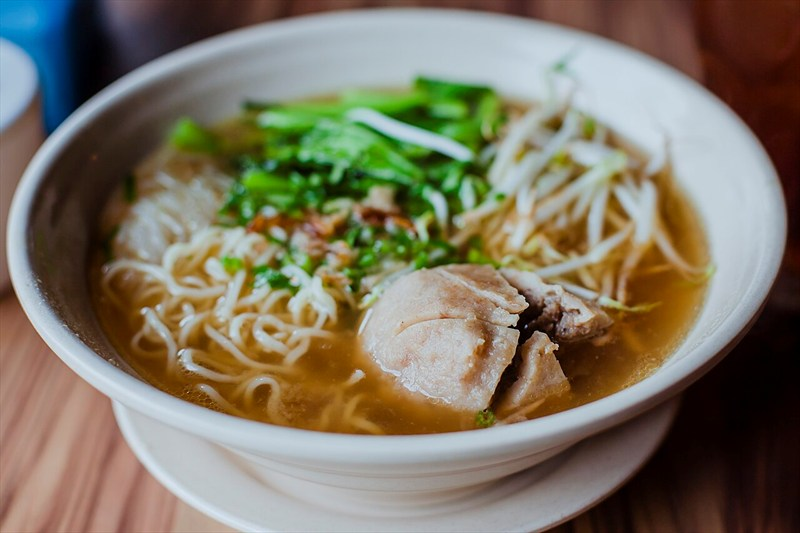Bakso: (27, 84, 678, 441)
